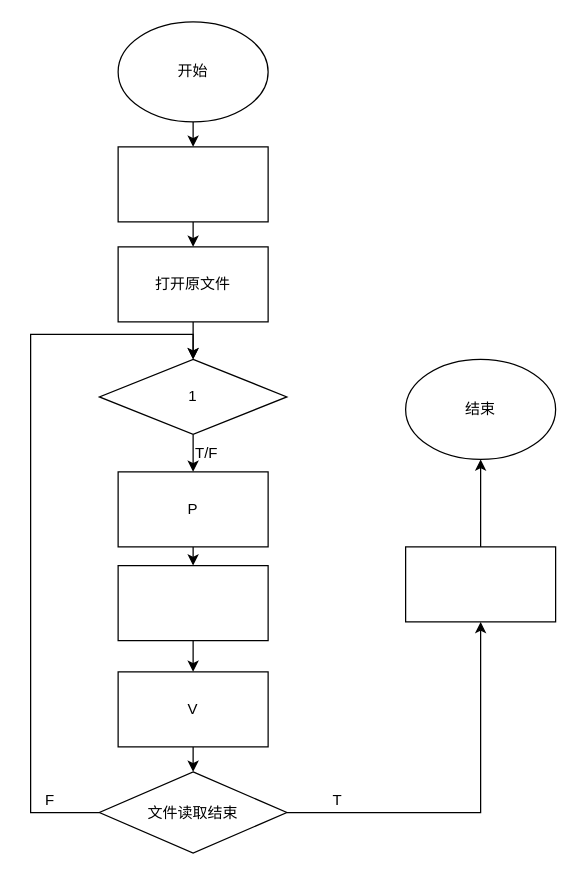
Image size: 578x875. Some labels were removed from this diagram. Each missing label, with the centre of its shape:
断开共享内存的连接: point (480, 584)
获取main中创建的共享内存组并建立数组形式的环形缓冲和信号灯: point (192, 184)
读文件、放入数据、移动环形缓冲区: point (192, 602)
